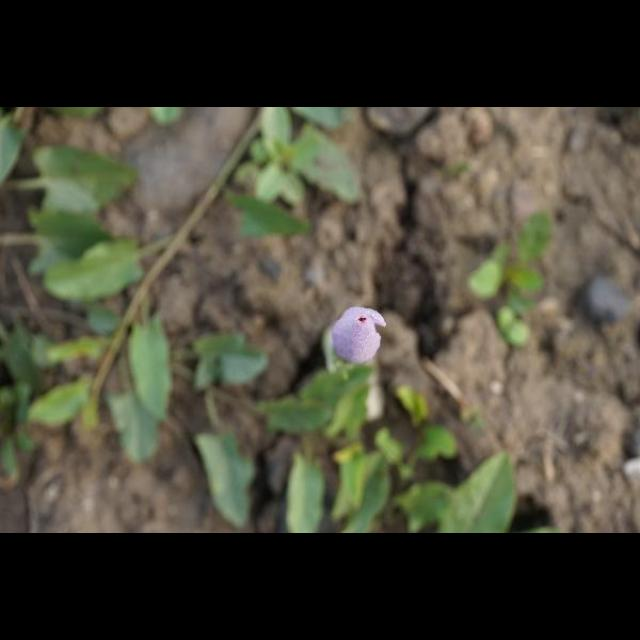flower: (332, 308, 386, 364)
